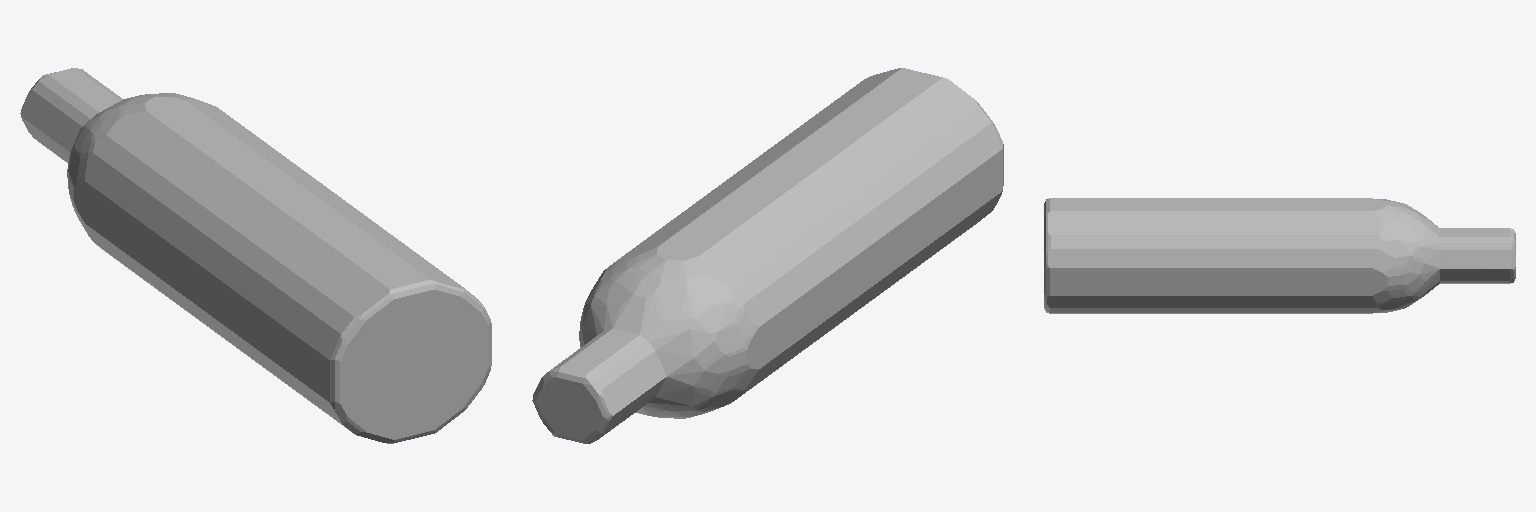
URDF robot description (root):
<robot name="root">
  <link name="link_coacd_convex_piece_0">
    <inertial>
      <origin xyz="0 0 0" rpy="0 0 0"/>
      <inertia ixx="5.48E-03" ixy="2.52E-07" ixz="-2.51E-08" iyy="5.54E-05" iyz="-5.83E-09" izz="5.48E-03"/>
    </inertial>
    <visual>
      <origin xyz="0 0 0" rpy="0 0 0"/>
      <geometry>
        <mesh filename="coacd_convex_piece_0.obj" scale="1.0000E+00 1.0000E+00 1.0000E+00"/>
      </geometry>
      <material name="">
        <color rgba="7.50E-01 7.50E-01 7.50E-01 1"/>
      </material>
    </visual>
    <collision>
      <origin xyz="0 0 0" rpy="0 0 0"/>
      <geometry>
        <mesh filename="coacd_convex_piece_0.obj" scale="1.0000E+00 1.0000E+00 1.0000E+00"/>
      </geometry>
    </collision>
  </link>
  <link name="link_coacd_convex_piece_1">
    <inertial>
      <origin xyz="0 0 0" rpy="0 0 0"/>
      <inertia ixx="4.42E-02" ixy="-4.18E-06" ixz="-6.85E-07" iyy="5.97E-03" iyz="-2.96E-06" izz="4.48E-02"/>
    </inertial>
    <visual>
      <origin xyz="0 0 0" rpy="0 0 0"/>
      <geometry>
        <mesh filename="coacd_convex_piece_1.obj" scale="1.0000E+00 1.0000E+00 1.0000E+00"/>
      </geometry>
      <material name="">
        <color rgba="7.50E-01 7.50E-01 7.50E-01 1"/>
      </material>
    </visual>
    <collision>
      <origin xyz="0 0 0" rpy="0 0 0"/>
      <geometry>
        <mesh filename="coacd_convex_piece_1.obj" scale="1.0000E+00 1.0000E+00 1.0000E+00"/>
      </geometry>
    </collision>
  </link>
  <joint name="link_coacd_convex_piece_1_joint" type="fixed">
    <origin xyz="0 0 0" rpy="0 0 0"/>
    <parent link="link_coacd_convex_piece_0"/>
    <child link="link_coacd_convex_piece_1"/>
  </joint>
</robot>

--- Render facts (derived) ---
3 views of the same robot in one strip: view 1: azimuth 30°, elevation 25°; view 2: azimuth 150°, elevation 25°; view 3: azimuth 270°, elevation 25° (orthographic).
Model root with 2 links and 1 joints (1 fixed), rooted at link_coacd_convex_piece_0, posed every joint at zero.
Visible links, largest first — view 1: link_coacd_convex_piece_1, link_coacd_convex_piece_0; view 2: link_coacd_convex_piece_1, link_coacd_convex_piece_0; view 3: link_coacd_convex_piece_1, link_coacd_convex_piece_0.
Boxes of the visible links, x1,y1,x2,y2 form: link_coacd_convex_piece_1: [67, 93, 491, 443]; link_coacd_convex_piece_0: [20, 68, 122, 162]; link_coacd_convex_piece_1: [579, 68, 1003, 418]; link_coacd_convex_piece_0: [532, 328, 666, 443]; link_coacd_convex_piece_1: [1044, 198, 1439, 313]; link_coacd_convex_piece_0: [1440, 228, 1515, 283].
Bounding box of the posed robot: 0.4958 × 1.9 × 0.4545 m (x, y, z).
2 mesh visuals loaded from 2 distinct referenced files (2 OBJ).
